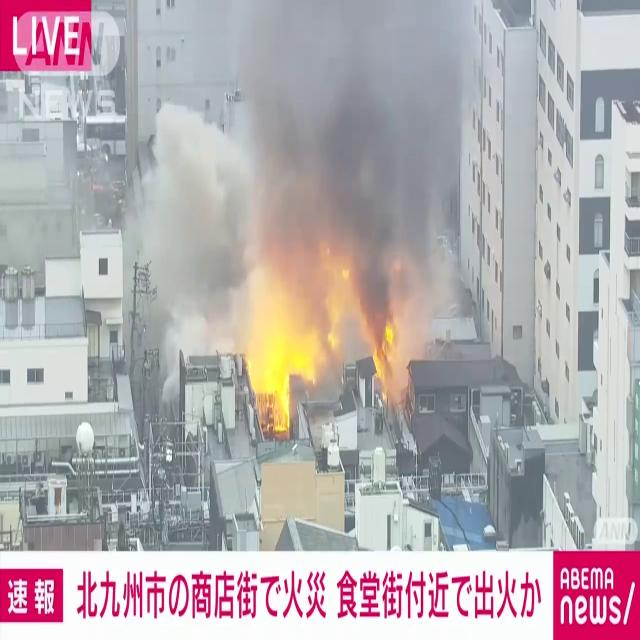Fire: (240, 237, 408, 434), (370, 314, 400, 404)
Smoke: (123, 2, 465, 322), (228, 1, 465, 320)
